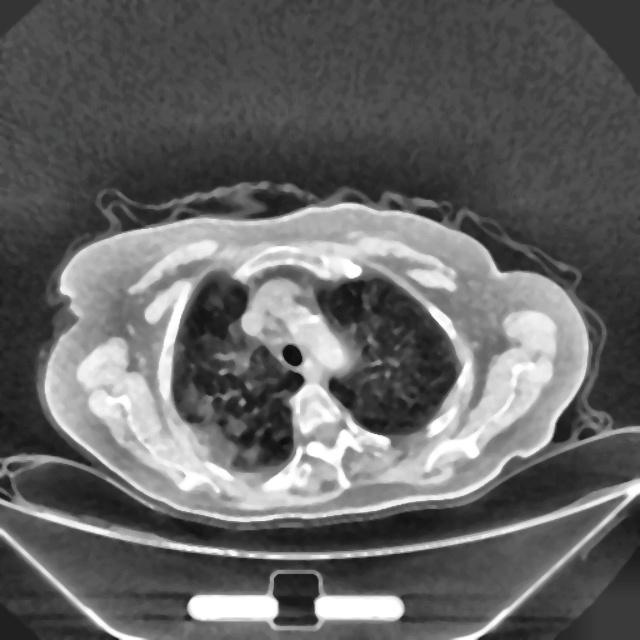covid: (39, 191, 592, 529)
